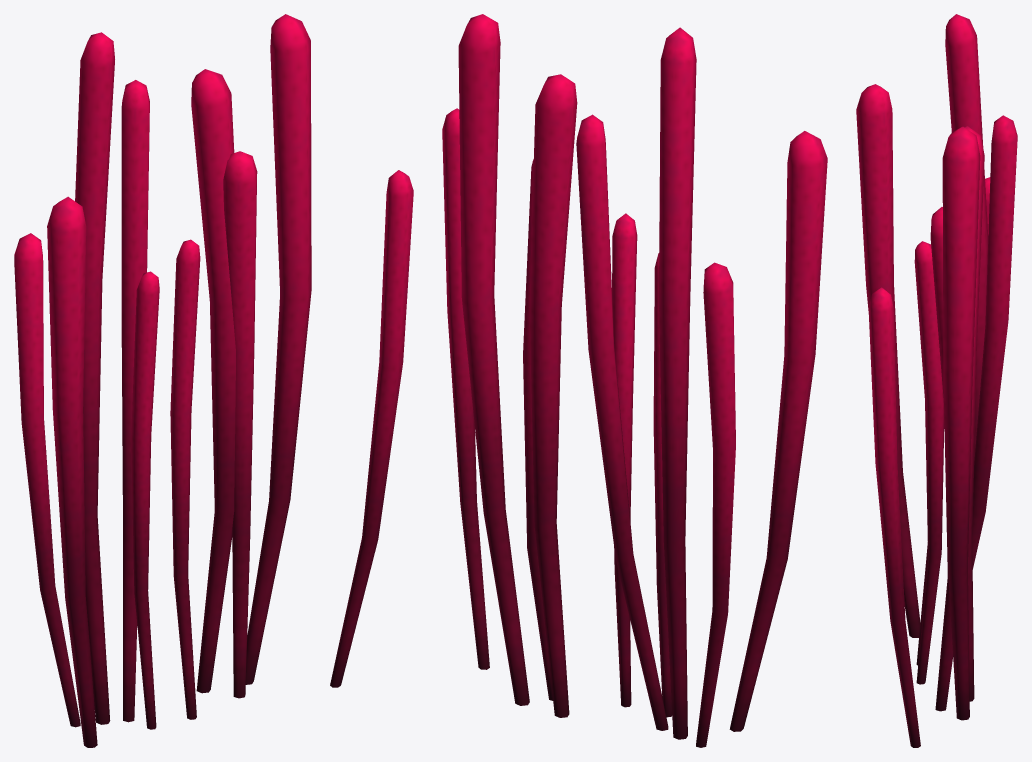
Rendered from Coral_07c.FBX.
3 renders of one model, left to right at view 1: azimuth 30°, elevation 25°; view 2: azimuth 150°, elevation 25°; view 3: azimuth 270°, elevation 25°, orthographic. The views are drawn at different scales.
Parts seen in each view (by area): view 1: Coral_07c; view 2: Coral_07c; view 3: Coral_07c.
Boxes of the visible parts, x1,y1,x2,y2 form: Coral_07c: (14, 14, 413, 747); Coral_07c: (442, 14, 827, 747); Coral_07c: (856, 14, 1017, 747).
Bounding box in the file's own units: 43.71 × 79.27 × 18.23.
